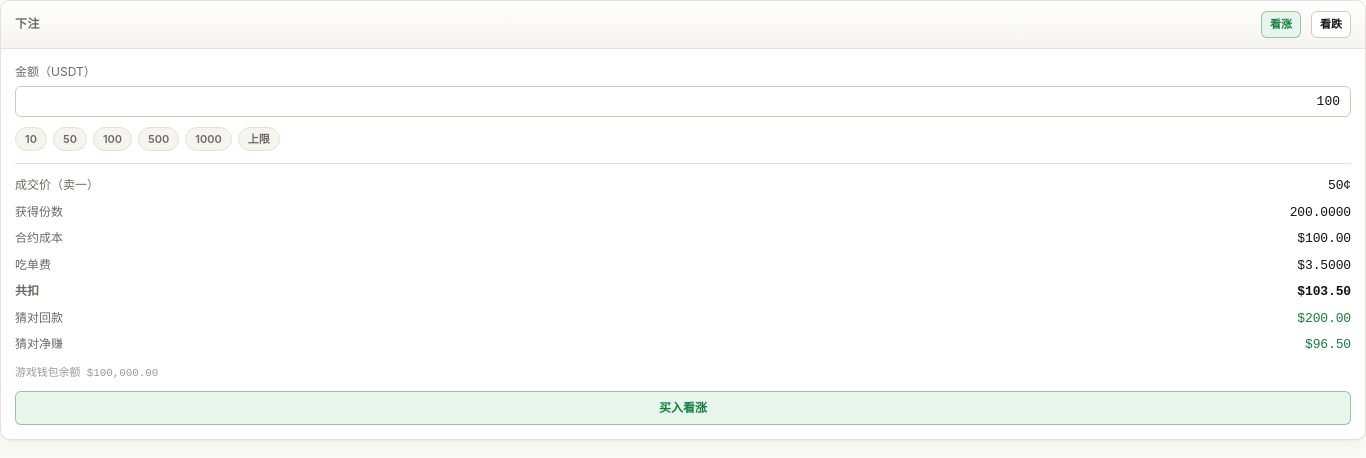
Test case: BetTicket：试算以后端为准 › 金额预置档位切换后重新试算
The image size is (1366, 458).
Expected: the text "200.0000" is shown, x1=1290 y1=204 x2=1351 y2=220
Click the button "500". click: (159,139)
box: x1=138 y1=126 x2=179 y2=151
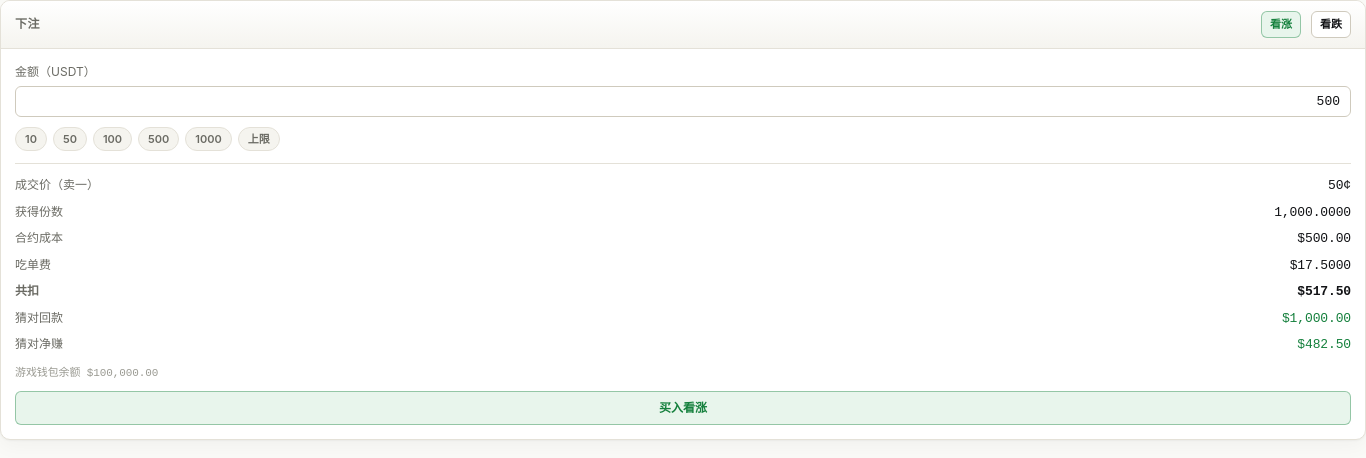
Expected: the text "1,000.0000" is shown, x1=1274 y1=204 x2=1351 y2=220
Expected: the text "$17.5000" is shown, x1=1290 y1=258 x2=1351 y2=272
